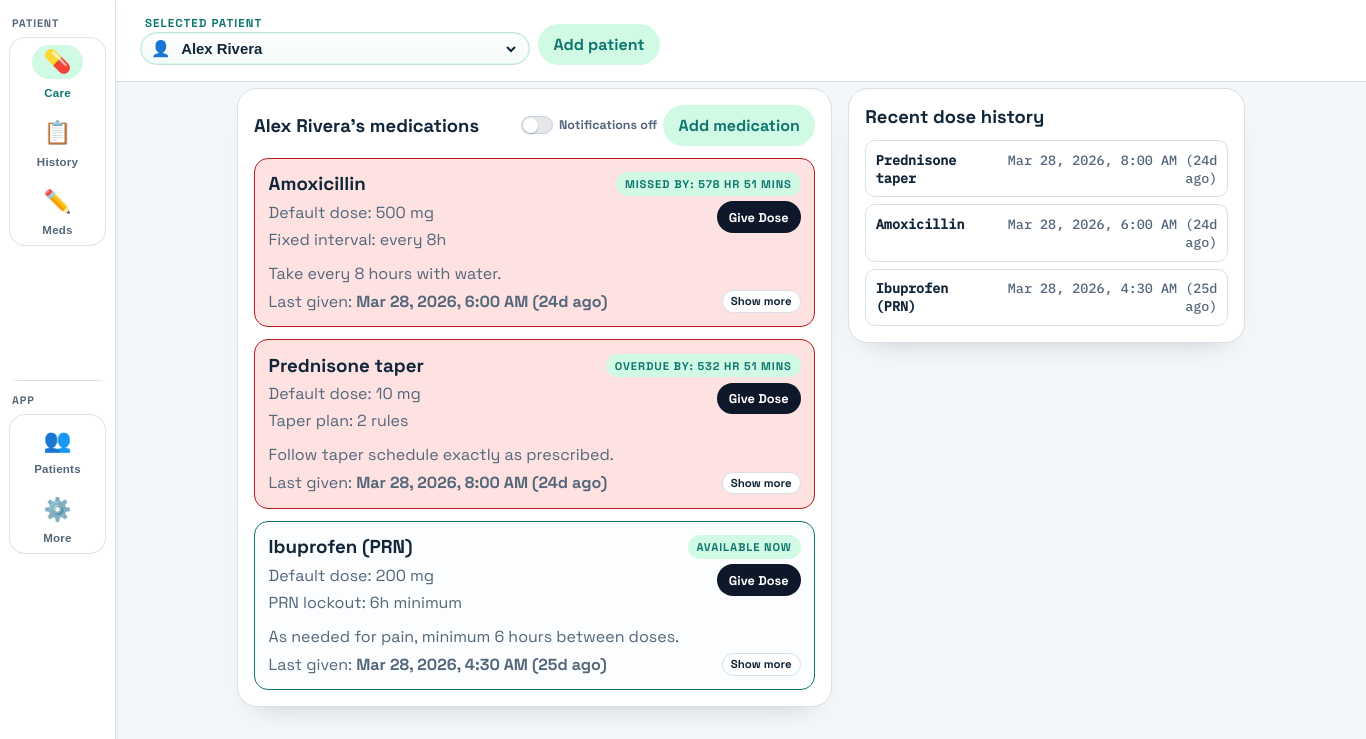
Test: App administration flow › deactivates and deletes a medication
The image size is (1366, 739).
Click the button with test id "tab-meds" at {"x": 58, "y": 210}, box 12,178 -> 103,243
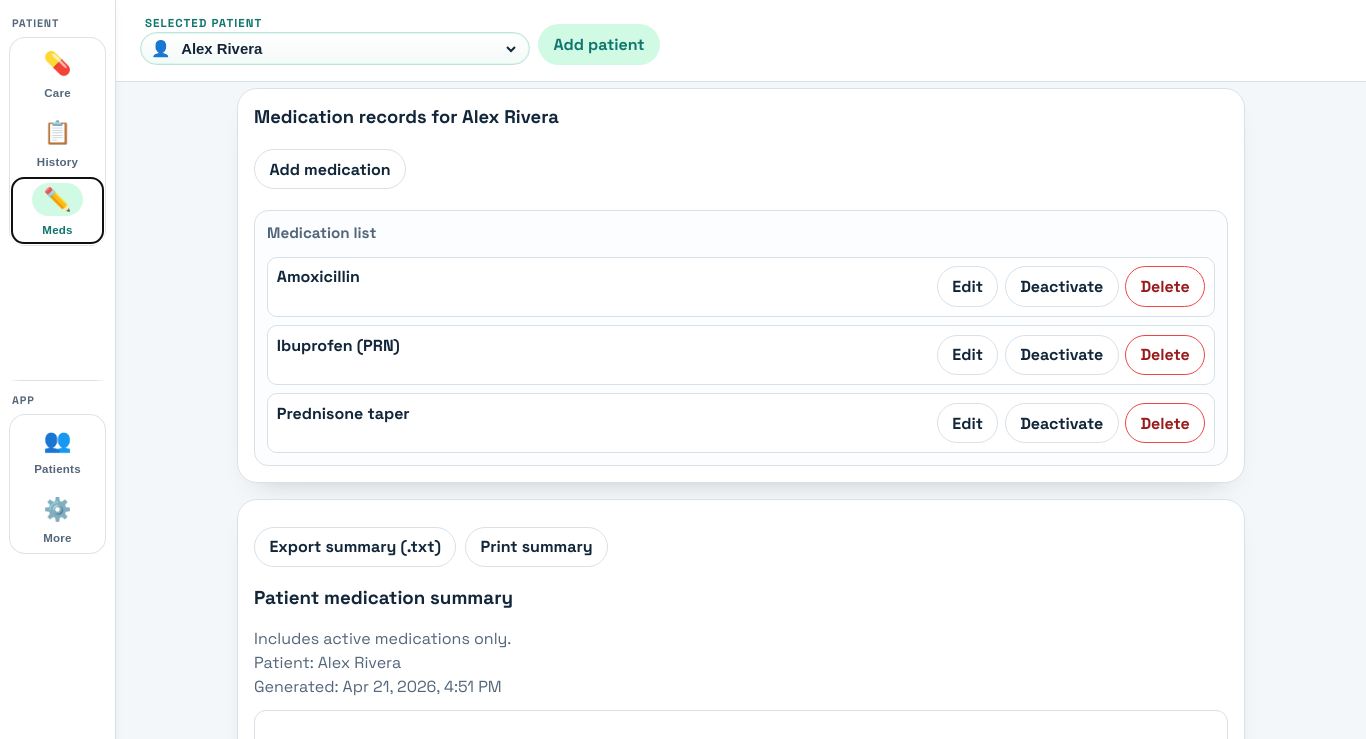
Click the button with test id "deactivate-medication-med-interval-1" at {"x": 1062, "y": 287}, box 1005,266 -> 1119,307
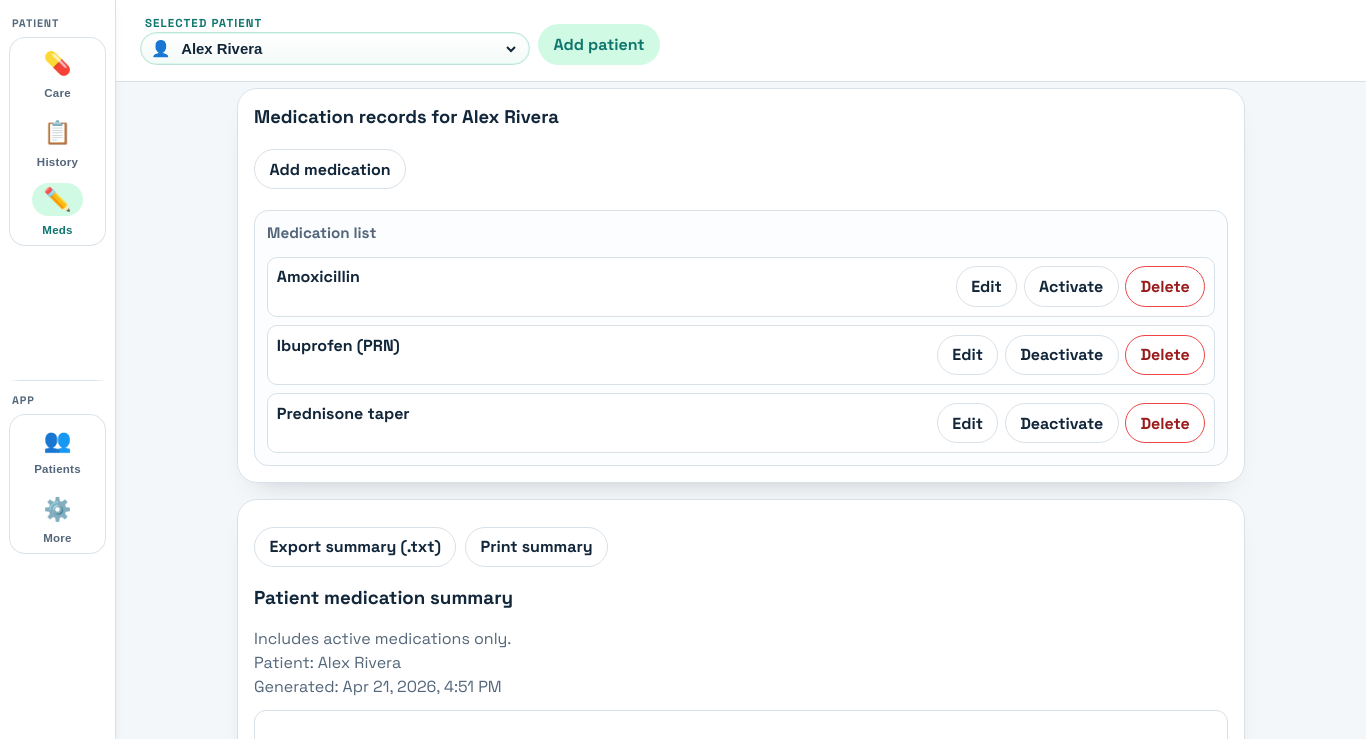
Check: the button with test id "activate-medication-med-interval-1" is shown, box 1024,266 -> 1119,307
Click the button with test id "delete-medication-med-interval-1" at {"x": 1165, "y": 287}, box 1125,266 -> 1205,307
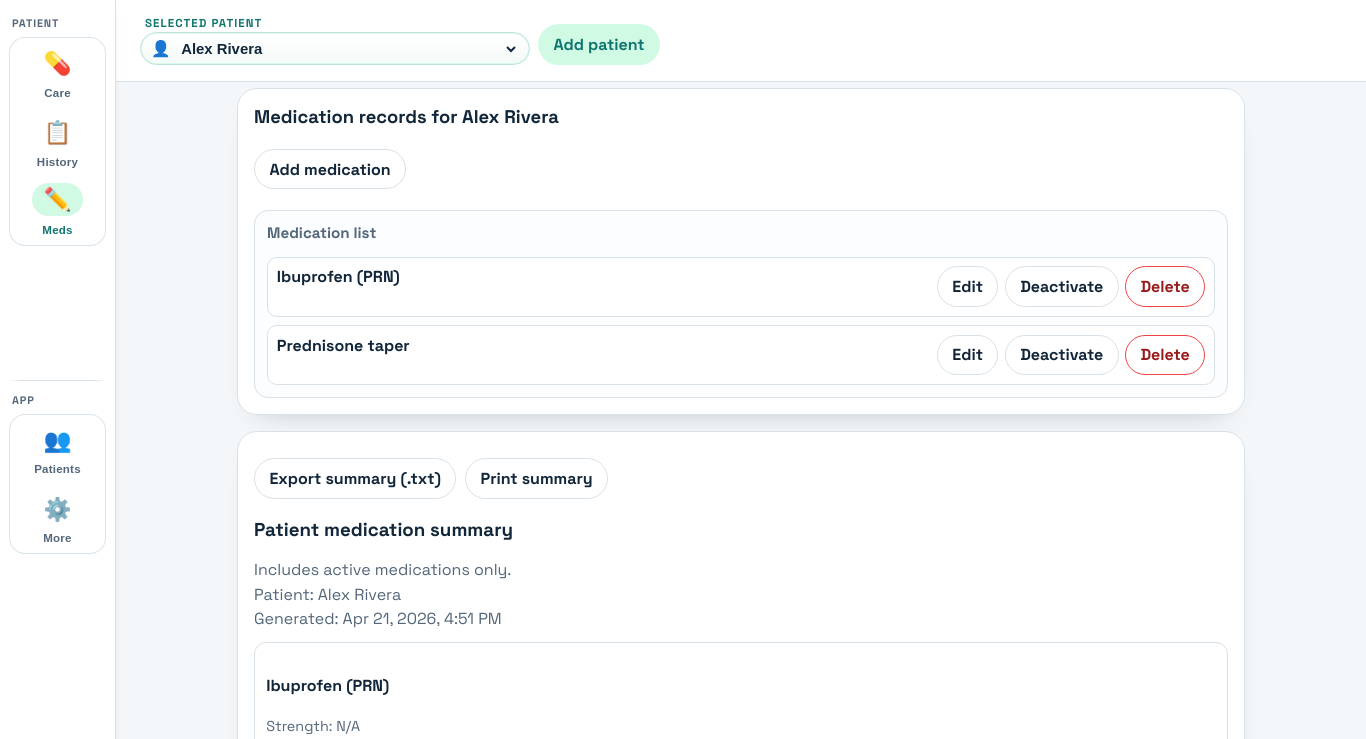
Check: the list item with test id "medication-item-med-interval-1" is gone
